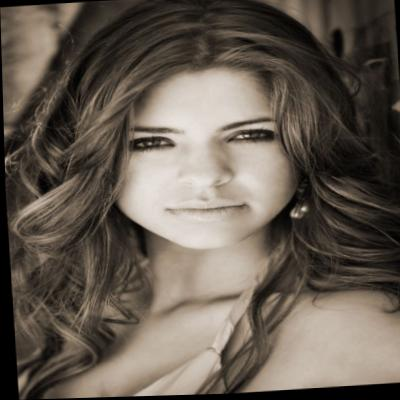netural: (110, 60, 304, 253)
